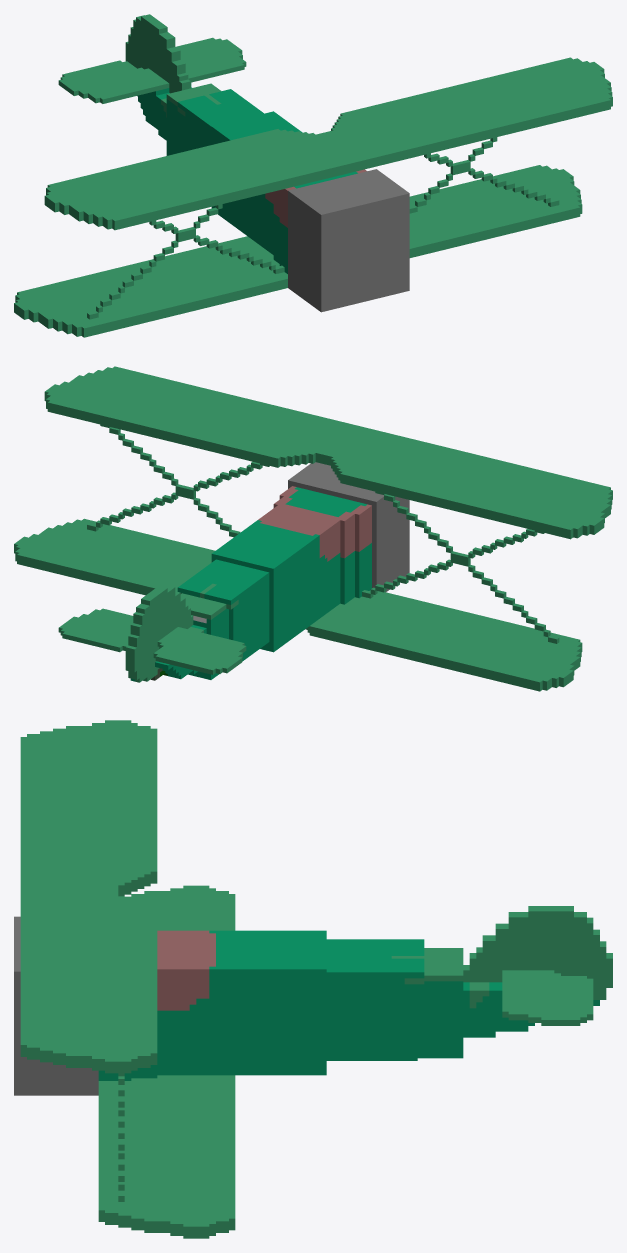
File: Camel_All_Merged.obj
3 views of the same model, one above another, from view 1: azimuth 30°, elevation 25°; view 2: azimuth 150°, elevation 25°; view 3: azimuth 270°, elevation 25° (orthographic). The views are drawn at different scales.
Parts seen in each view (by area): view 1: Camel_All_Merged; view 2: Camel_All_Merged; view 3: Camel_All_Merged.
Boxes of the visible parts, box(x1,y1,x2,y2) form: Camel_All_Merged: box(14, 14, 612, 337); Camel_All_Merged: box(14, 366, 612, 691); Camel_All_Merged: box(14, 720, 612, 1238).
Size of the model in its own units: 124 by 30 by 92.
1 material, 1 textured.
